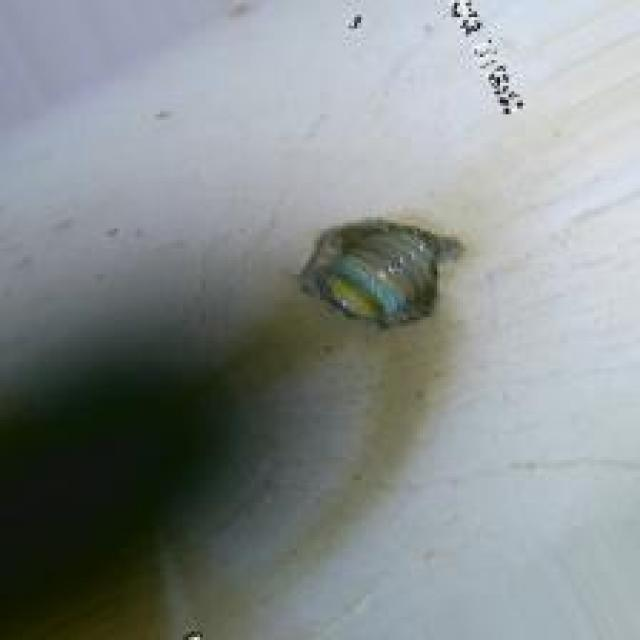ferrule: (308, 214, 448, 337)
